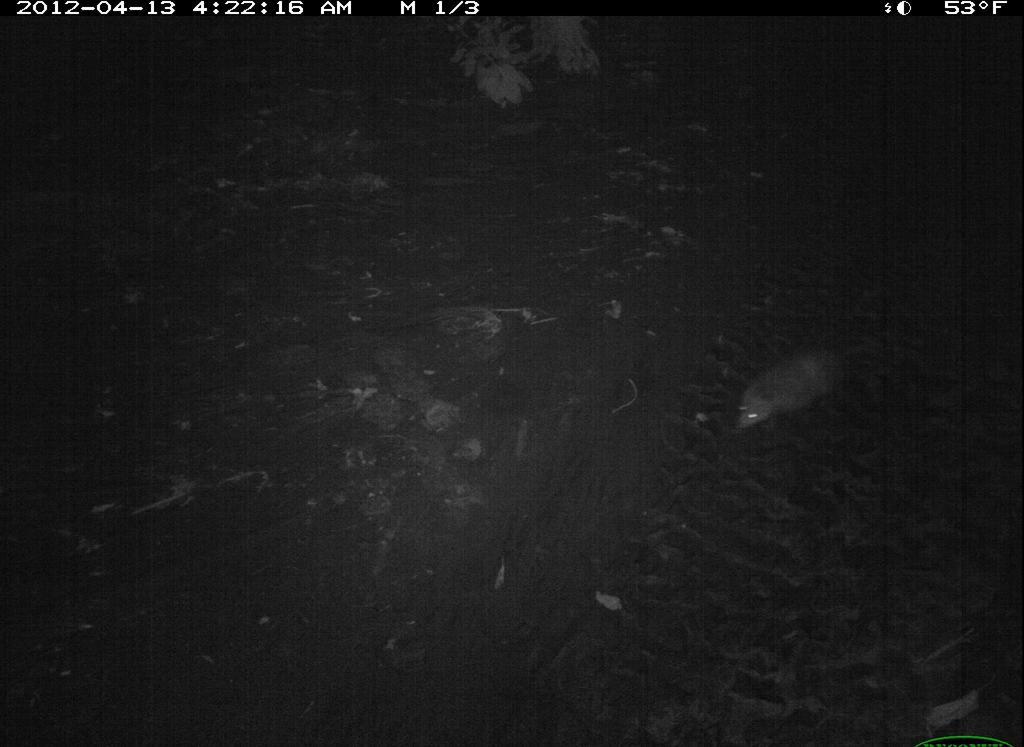opossum: (726, 337, 875, 437)
